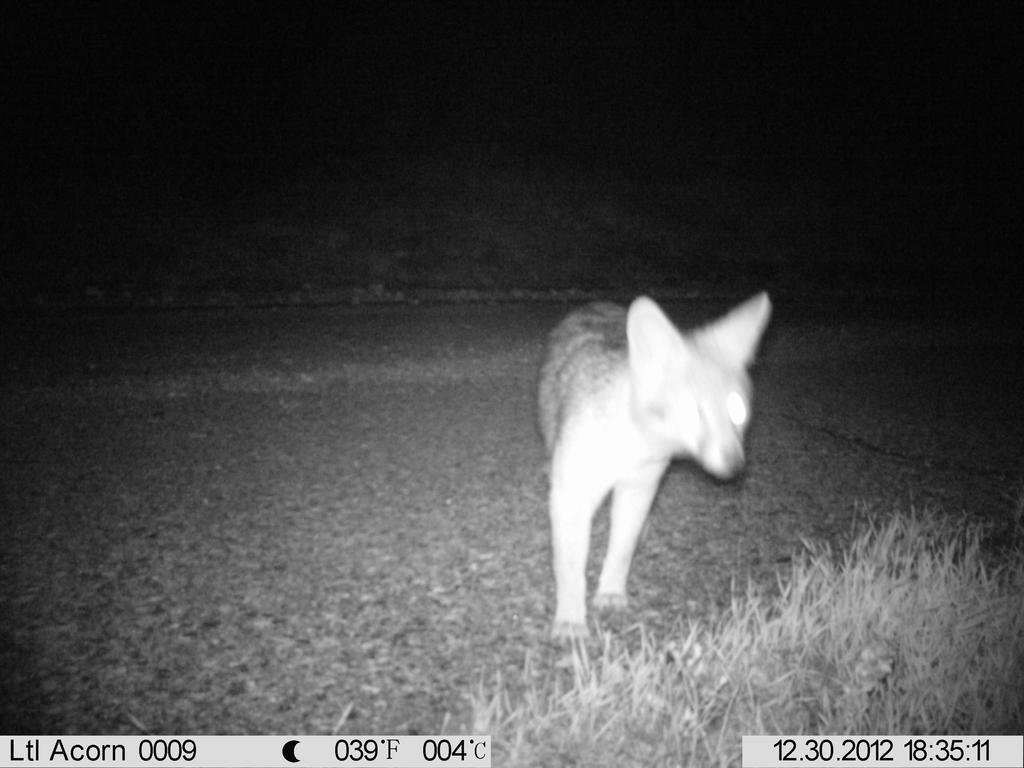fox: (528, 268, 785, 642)
